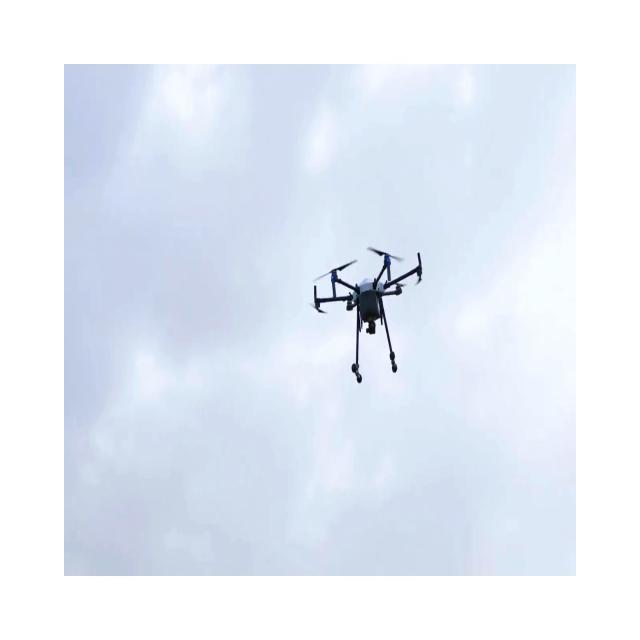drone: (311, 245, 422, 384)
